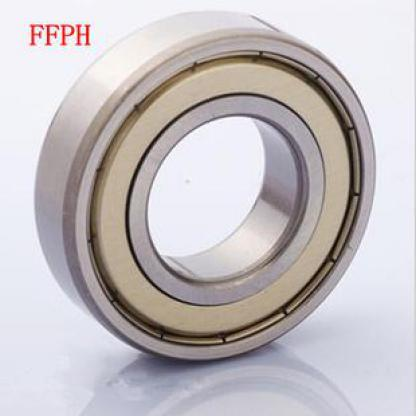FOD: (31, 7, 380, 363)
